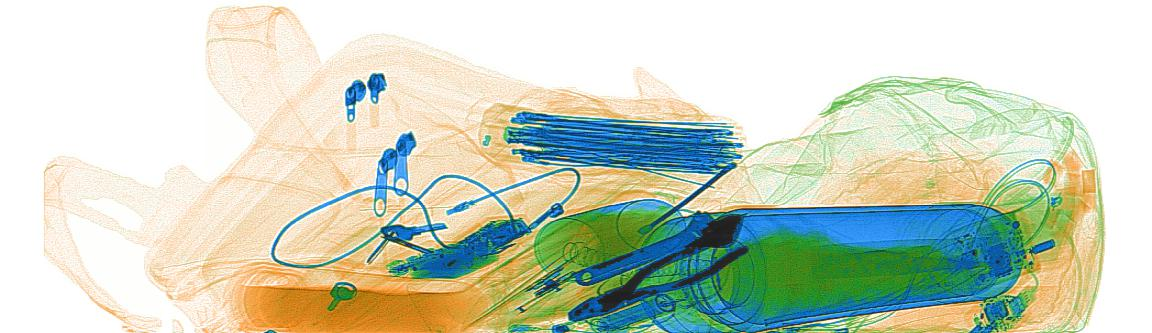battery: (584, 292, 671, 331)
